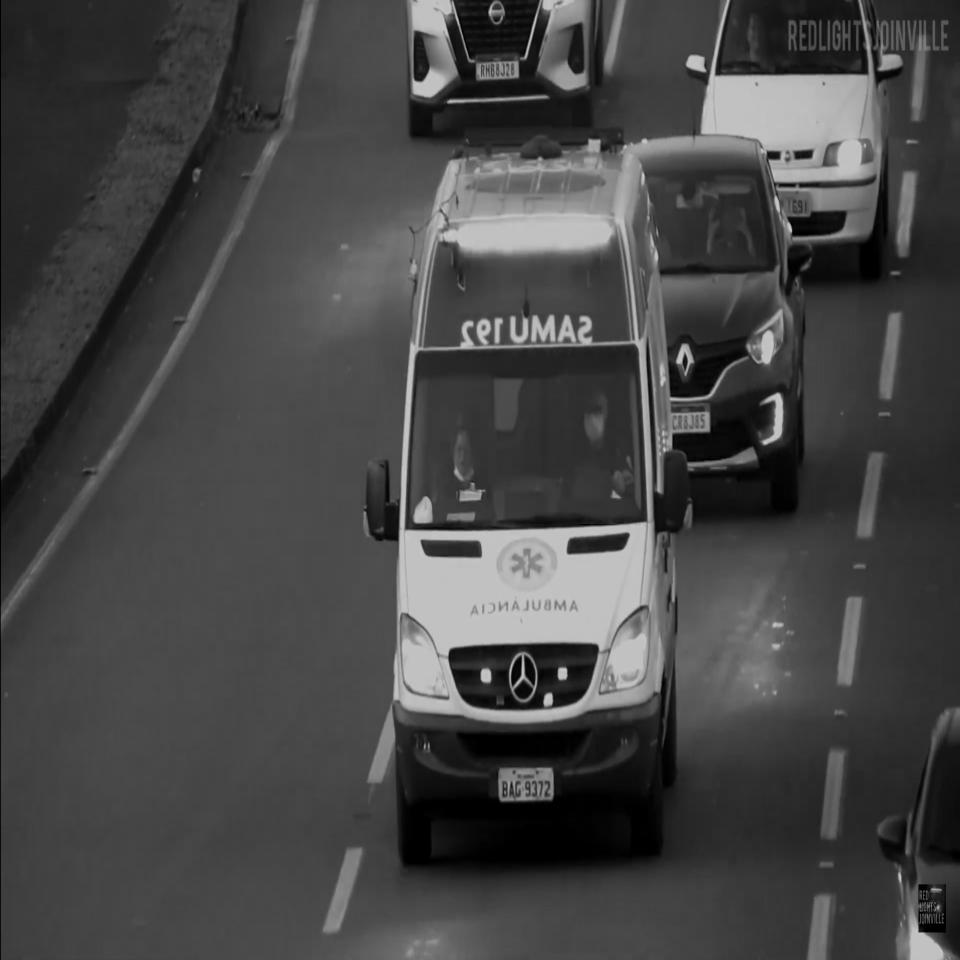ambulancia: (368, 133, 694, 859)
